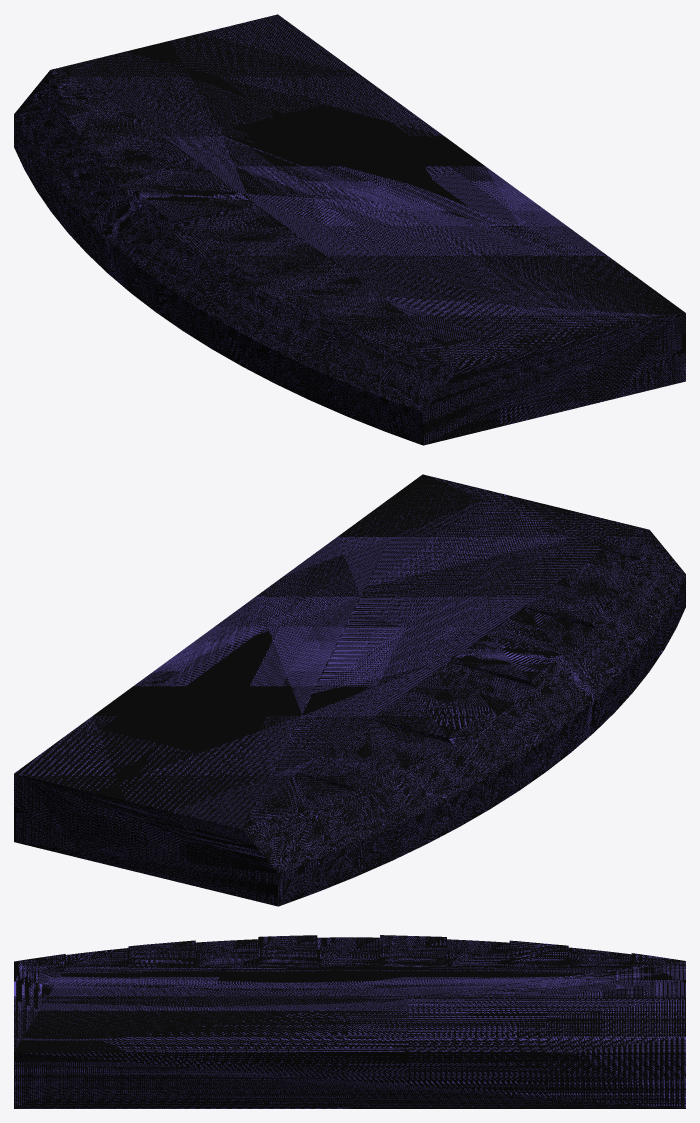
The model's file is original-5.obj.
3 renders of one model, top to bottom at view 1: azimuth 30°, elevation 25°; view 2: azimuth 150°, elevation 25°; view 3: azimuth 270°, elevation 25°, orthographic. The views are drawn at different scales.
Parts seen in each view (by area): view 1: Obj_000005_1/Obj_000005/mesh5/mesh5-geometry#mesh5-geometry; view 2: Obj_000005_1/Obj_000005/mesh5/mesh5-geometry#mesh5-geometry; view 3: Obj_000005_1/Obj_000005/mesh5/mesh5-geometry#mesh5-geometry.
Boxes of the visible parts, <box> form: Obj_000005_1/Obj_000005/mesh5/mesh5-geometry#mesh5-geometry: <box>14,14,685,445</box>; Obj_000005_1/Obj_000005/mesh5/mesh5-geometry#mesh5-geometry: <box>14,474,685,906</box>; Obj_000005_1/Obj_000005/mesh5/mesh5-geometry#mesh5-geometry: <box>14,935,685,1108</box>.
Bounding box in the file's own units: 0.1698 × 0.034 × 0.3673.
